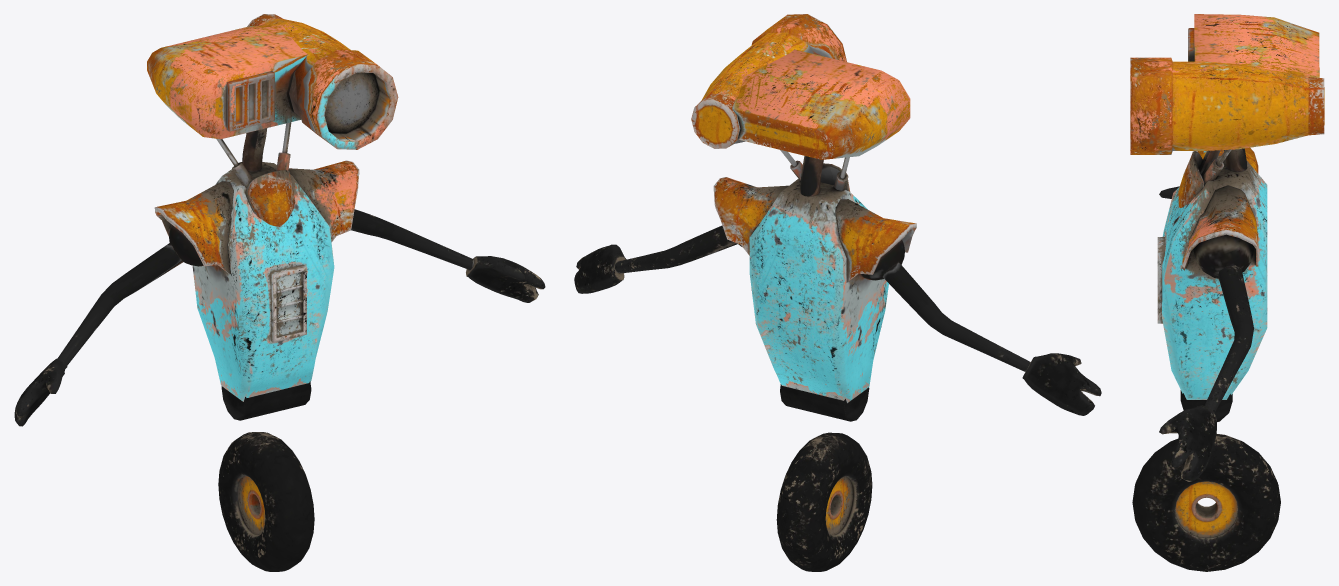
The model's file is Joule_web.glb.
3 views of the same model, side by side, from view 1: azimuth 30°, elevation 25°; view 2: azimuth 150°, elevation 25°; view 3: azimuth 270°, elevation 25° (orthographic). The views are drawn at different scales.
Visible parts, largest first — view 1: body.003; view 2: body.003; view 3: body.003.
Boxes of the visible parts, x1,y1,x2,y2 form: body.003: [14, 14, 545, 571]; body.003: [574, 14, 1101, 571]; body.003: [1130, 14, 1324, 571].
Bounding box in the file's own units: 0.3119 × 0.2919 × 0.0962.
1 material, 1 textured.
